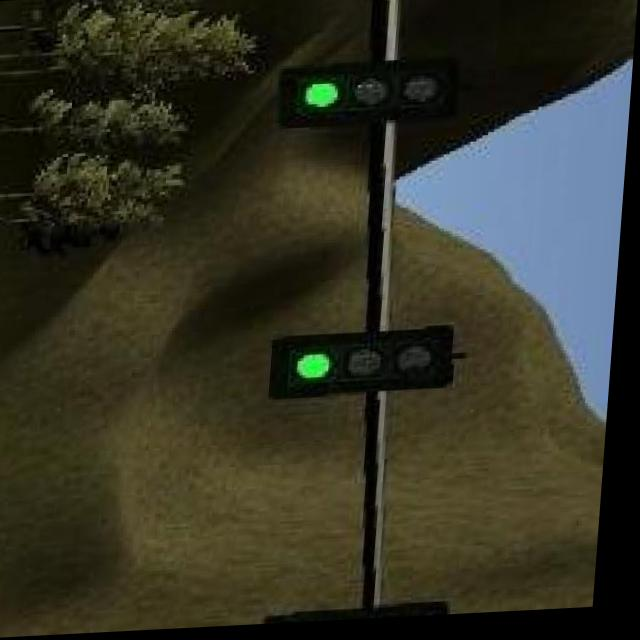green light: (284, 58, 462, 125), (285, 332, 457, 401)
